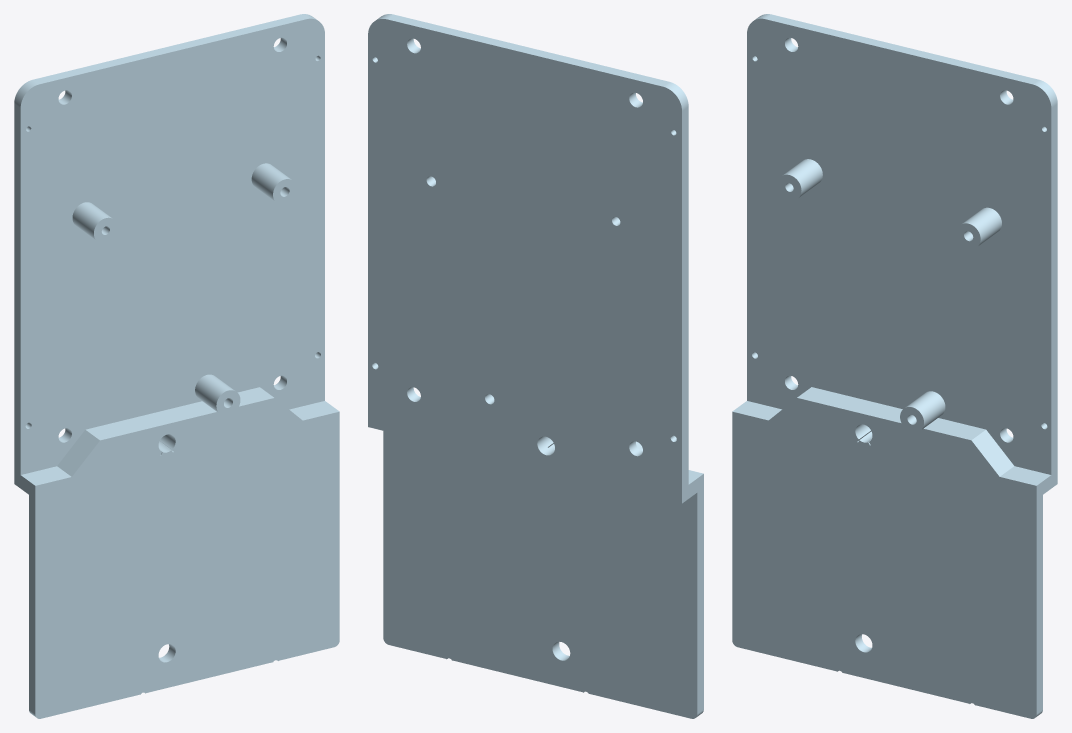
Rendered from Robot_Master Copy 1 - Part 1 (24).gltf.
3 views of the same model, side by side, from view 1: azimuth 30°, elevation 25°; view 2: azimuth 150°, elevation 25°; view 3: azimuth 330°, elevation 25° (orthographic). The views are drawn at different scales.
Visible parts, largest first — view 1: Part 1; view 2: Part 1; view 3: Part 1.
Boxes of the visible parts, x1,y1,x2,y2 form: Part 1: (14, 14, 339, 718); Part 1: (368, 14, 703, 718); Part 1: (732, 14, 1057, 718).
Bounding box in the file's own units: 0.082 × 0.1598 × 0.013.
